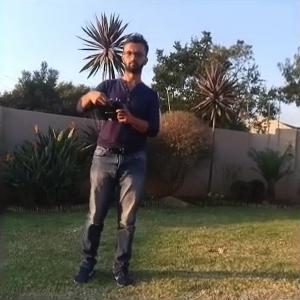follow: (68, 28, 162, 289)
